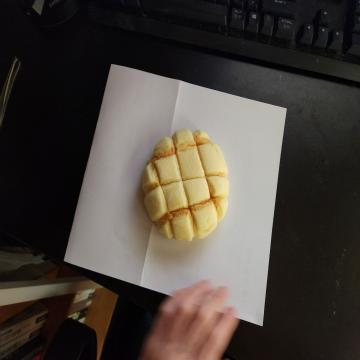melon_bread: (138, 130, 229, 243)
